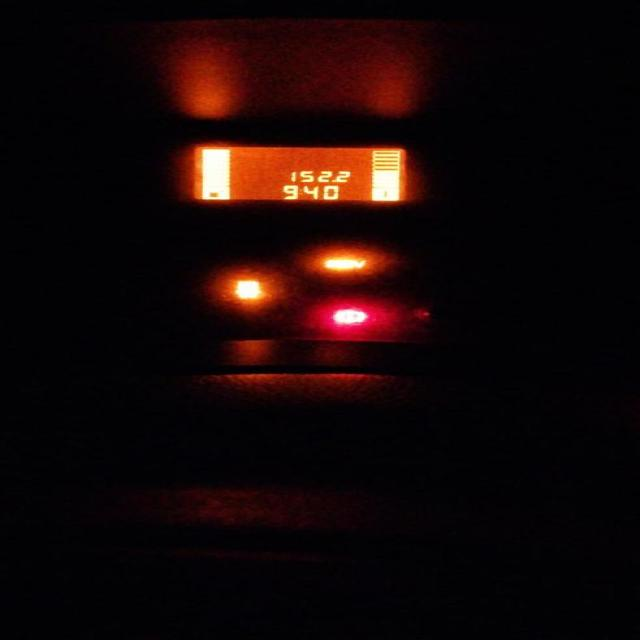odometer: (182, 144, 410, 202)
